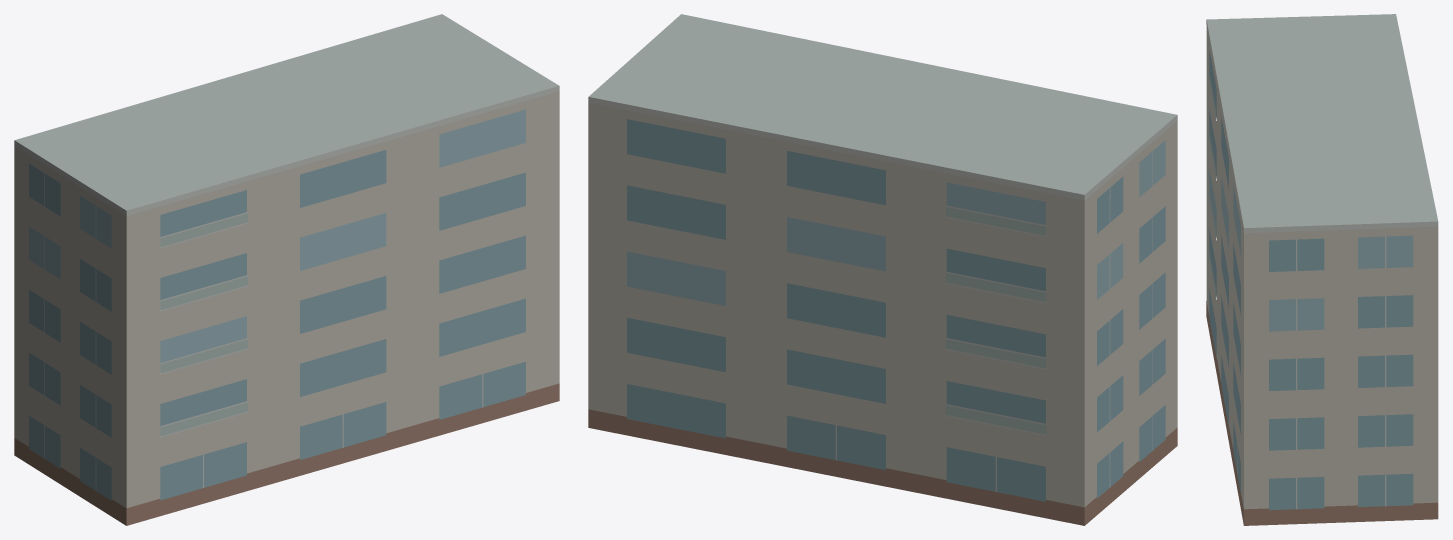
File: survey-upis-32701429.glb
The picture shows the model from 3 angles, left to right: view 1: azimuth 30°, elevation 25°; view 2: azimuth 150°, elevation 25°; view 3: azimuth 270°, elevation 25°; orthographic projection. The views are drawn at different scales.
Visible parts, largest first — view 1: survey-upis-32701429.tmp; view 2: survey-upis-32701429.tmp; view 3: survey-upis-32701429.tmp.
Boxes of the visible parts, x1,y1,x2,y2 form: survey-upis-32701429.tmp: (14,14,559,525); survey-upis-32701429.tmp: (588,14,1177,525); survey-upis-32701429.tmp: (1206,14,1438,525).
Size of the model in its own units: 21.61 by 14 by 9.89.
